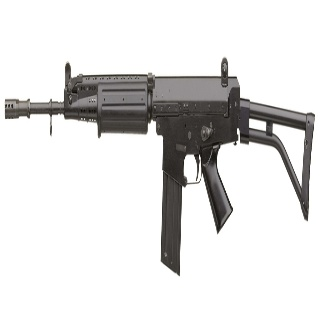rifle: (5, 53, 318, 281)
